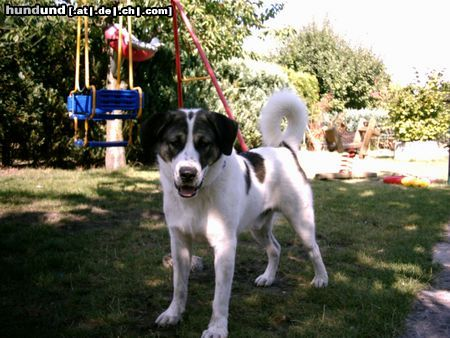kangal: (139, 88, 329, 338)
